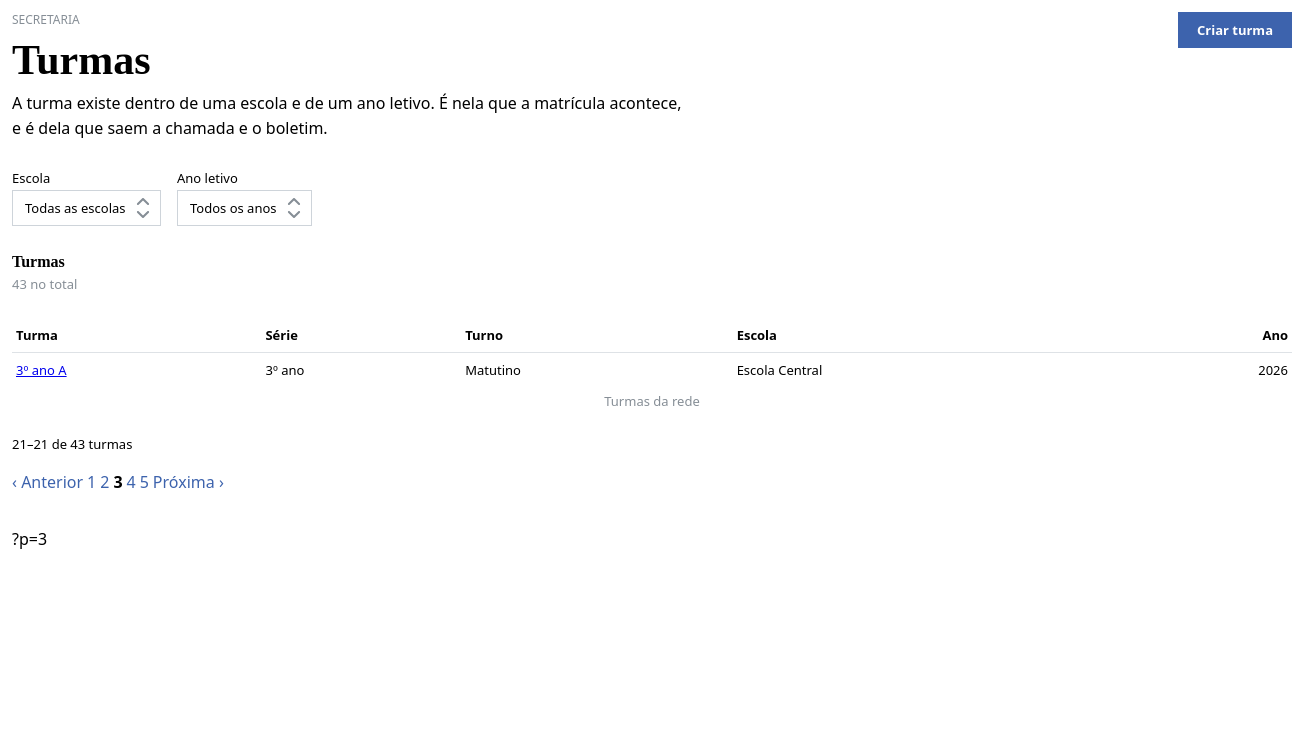
Test: ClassGroupList › changing the school filter while on ?p=3 drops the page from the address, because the third page of "todas as escolas" may not exist in "Escola Central" and the
This screenshot has width=1292, height=732.
Expected: the link "3º ano A" is shown, [16,361,67,379]
Select "Escola Central" in the dropdown labelled "Escola" at (86, 208), box [12,190,161,226]
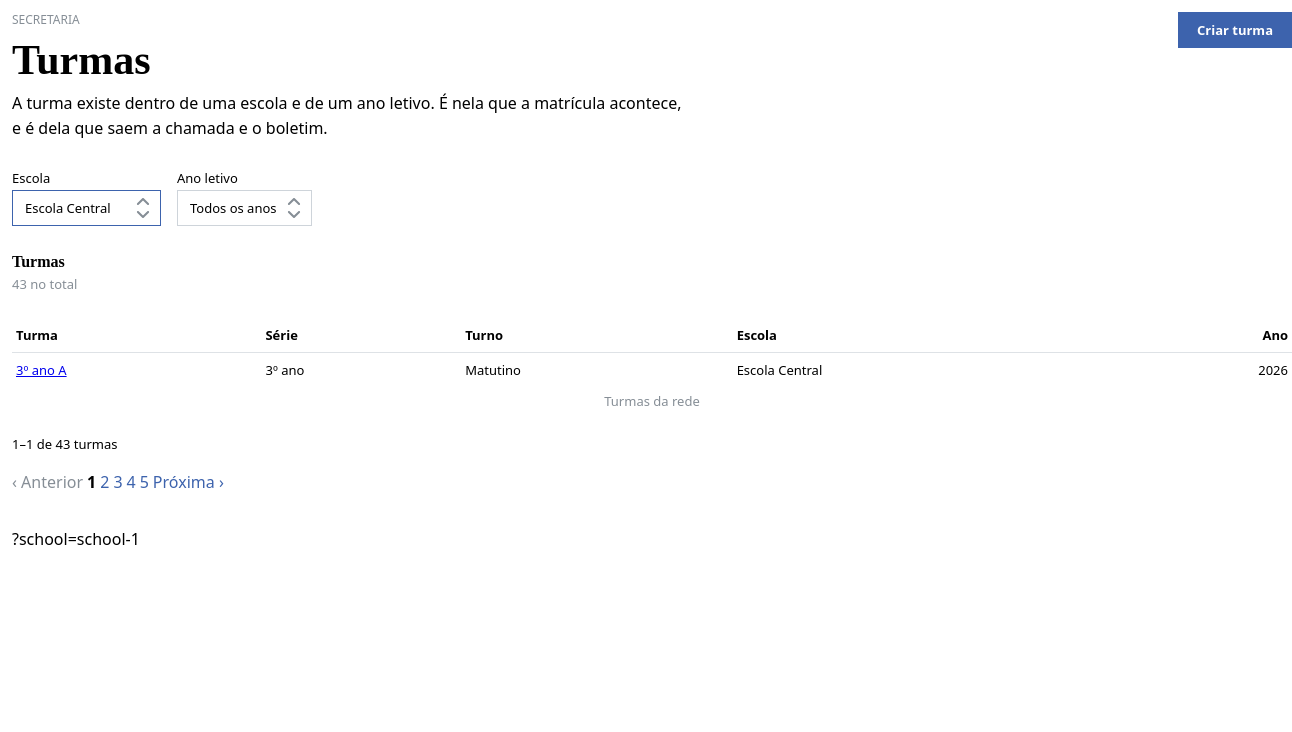
Expected: the text with test id "endereco" shows "school=school-1", [12,528,140,550]
Expected: the text with test id "endereco" no longer shows "p="
